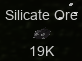Silicate: (5, 8, 78, 57)
